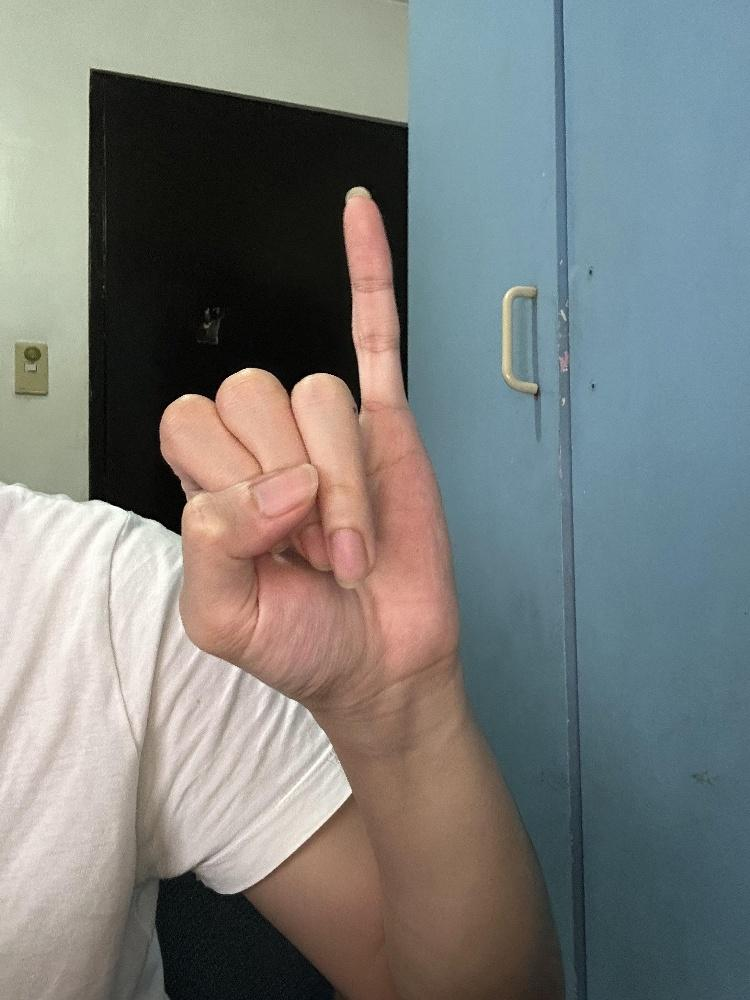i: (154, 182, 462, 713)
